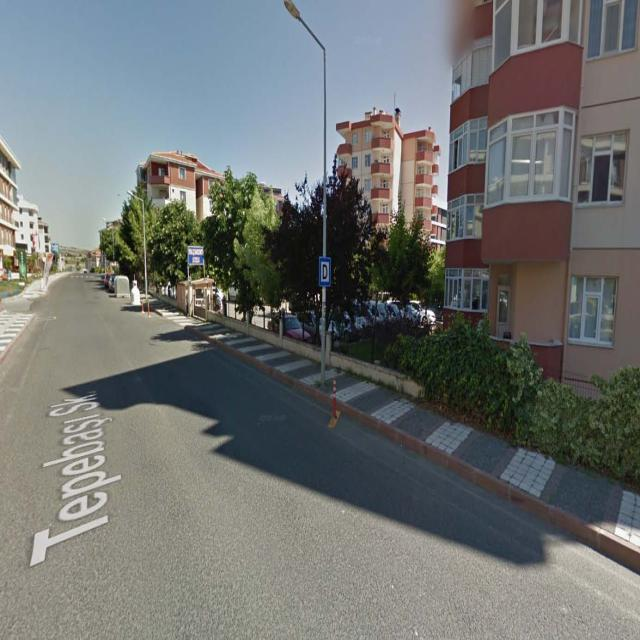durak: (319, 258, 331, 286)
